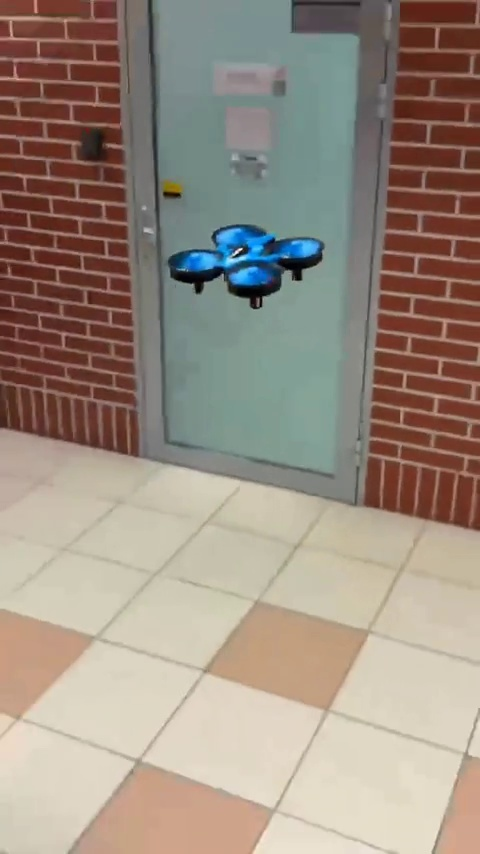drone: (173, 222, 321, 306)
